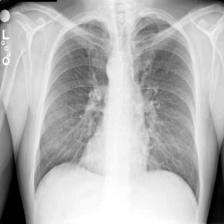normal: (31, 16, 203, 208)
